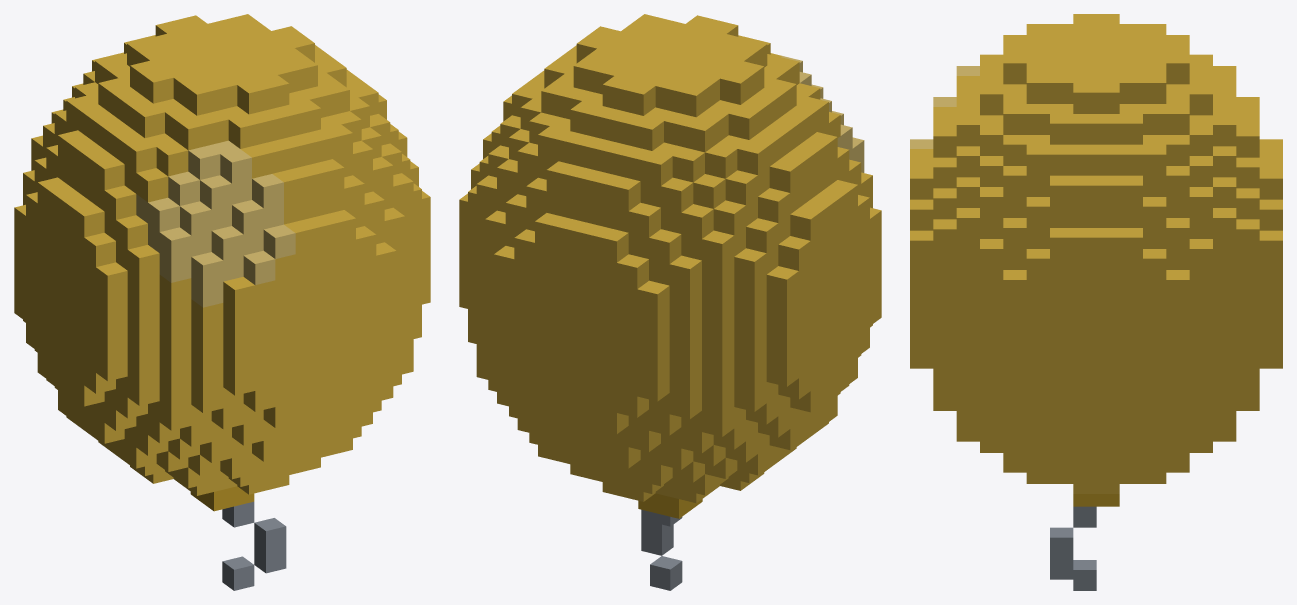
Rendered from balloon-yellow.glb.
The picture shows the model from 3 angles, left to right: view 1: azimuth 30°, elevation 25°; view 2: azimuth 150°, elevation 25°; view 3: azimuth 270°, elevation 25°; orthographic projection.
Visible parts, largest first — view 1: prop; view 2: prop; view 3: prop.
Part boxes in pixels (bbox=[...]): prop: bbox=[14, 14, 430, 590]; prop: bbox=[459, 14, 881, 590]; prop: bbox=[910, 14, 1282, 590].
Bounding box in the file's own units: 10.24 × 16 × 10.24.
